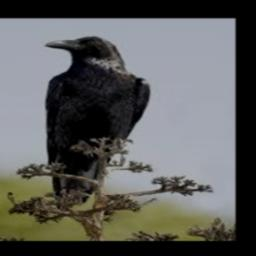Crow: (45, 37, 149, 212)
